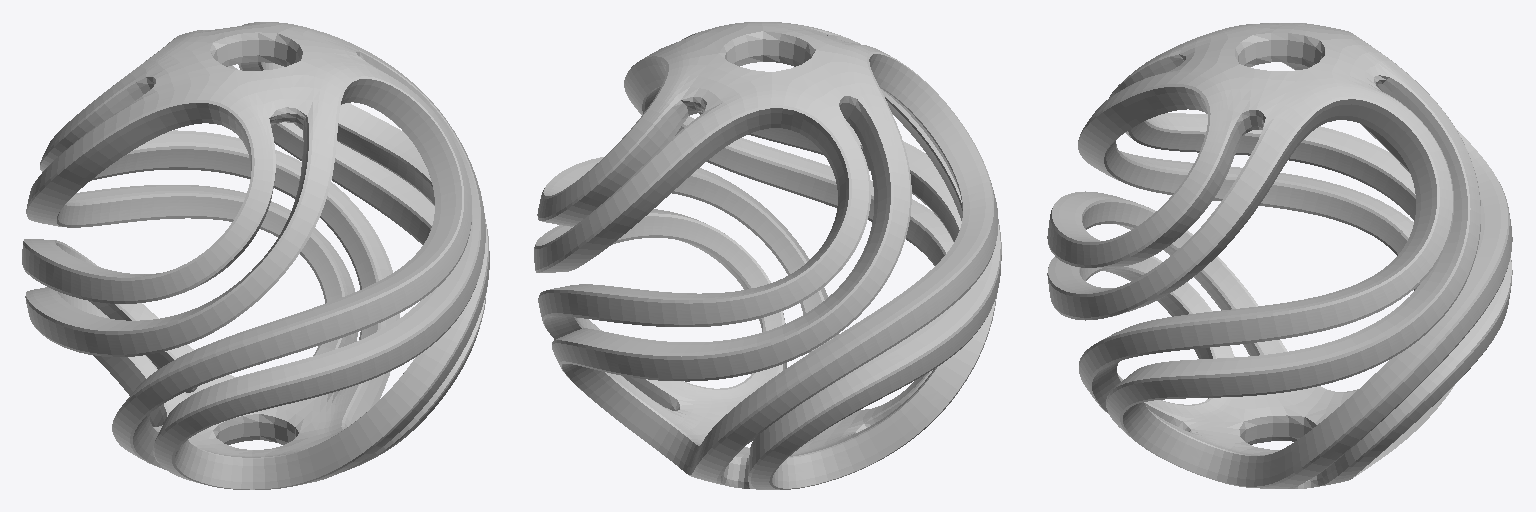
File: orbSmooth.obj
The picture shows the model from 3 angles: view 1: azimuth 30°, elevation 25°; view 2: azimuth 150°, elevation 25°; view 3: azimuth 270°, elevation 25°; orthographic projection.
Parts seen in each view (by area): view 1: Cube_Cube.003; view 2: Cube_Cube.003; view 3: Cube_Cube.003.
Part boxes in pixels (x1,y1,x2,y2): Cube_Cube.003: (22,22,489,489); Cube_Cube.003: (534,22,1001,489); Cube_Cube.003: (1047,23,1512,488).
Bounding box in the file's own units: 3.55 × 3.44 × 3.55.